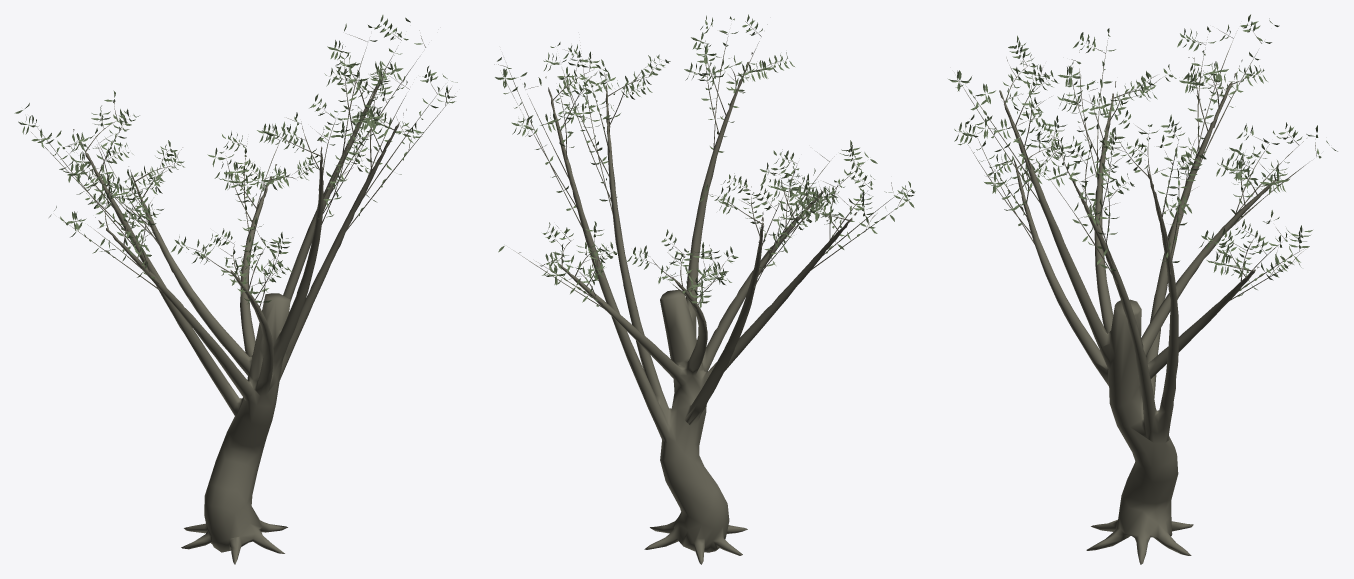
File: Oleastre_1_Niveau1.fbx
3 views of the same model, side by side, from view 1: azimuth 30°, elevation 25°; view 2: azimuth 150°, elevation 25°; view 3: azimuth 270°, elevation 25° (orthographic). The views are drawn at different scales.
Parts seen in each view (by area): view 1: Oleastre_1_Niveau1_Jeu; view 2: Oleastre_1_Niveau1_Jeu; view 3: Oleastre_1_Niveau1_Jeu.
Boxes of the visible parts, x1,y1,x2,y2 form: Oleastre_1_Niveau1_Jeu: (14, 15, 457, 564); Oleastre_1_Niveau1_Jeu: (494, 14, 915, 564); Oleastre_1_Niveau1_Jeu: (948, 14, 1337, 564).
Size of the model in its own units: 355 by 388 by 279.
